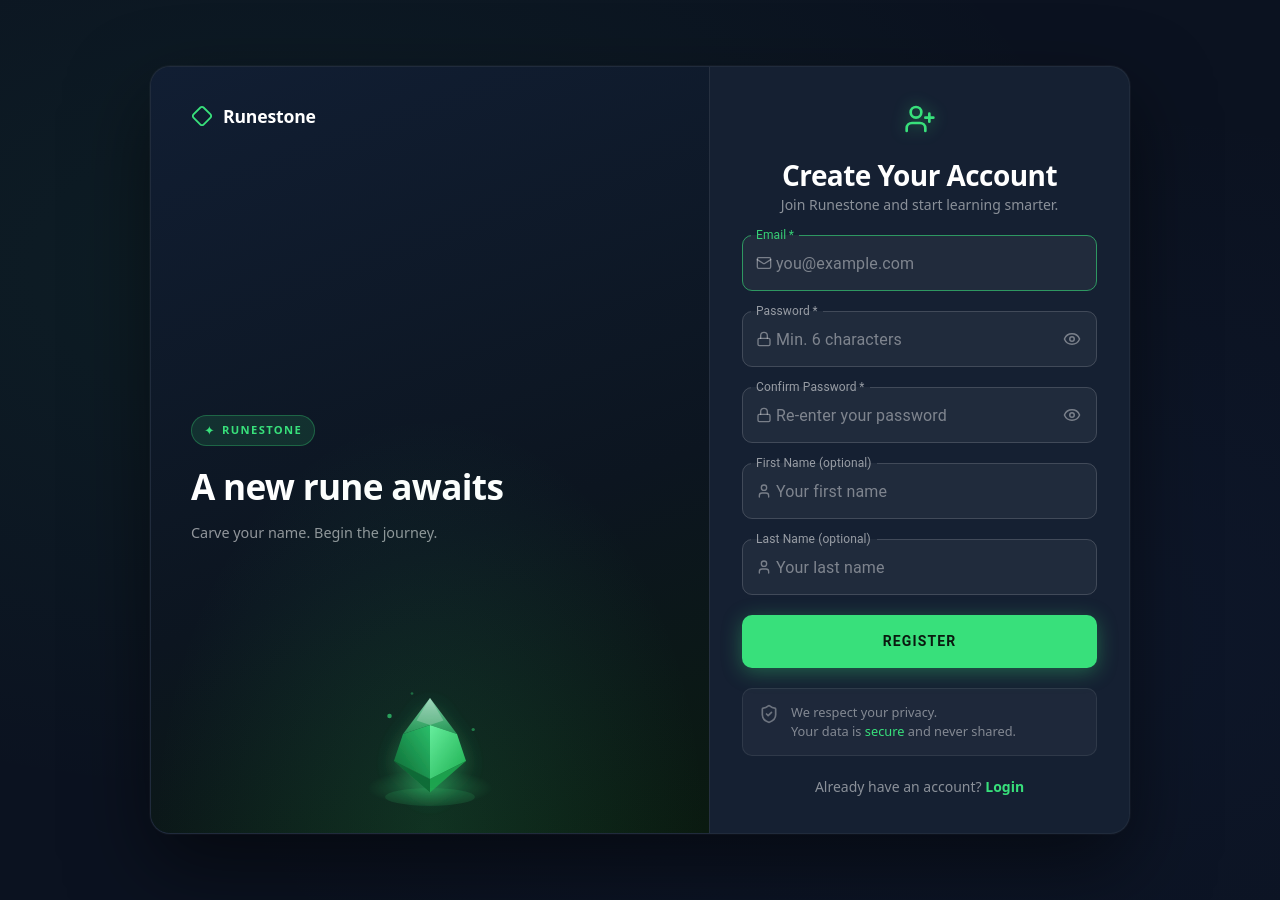
Test: Register Component › Form Validation › should show error when passwords do not match
Type "test@example.com" into the field labelled "Email *" at (936, 263), box [776,235,1097,291]
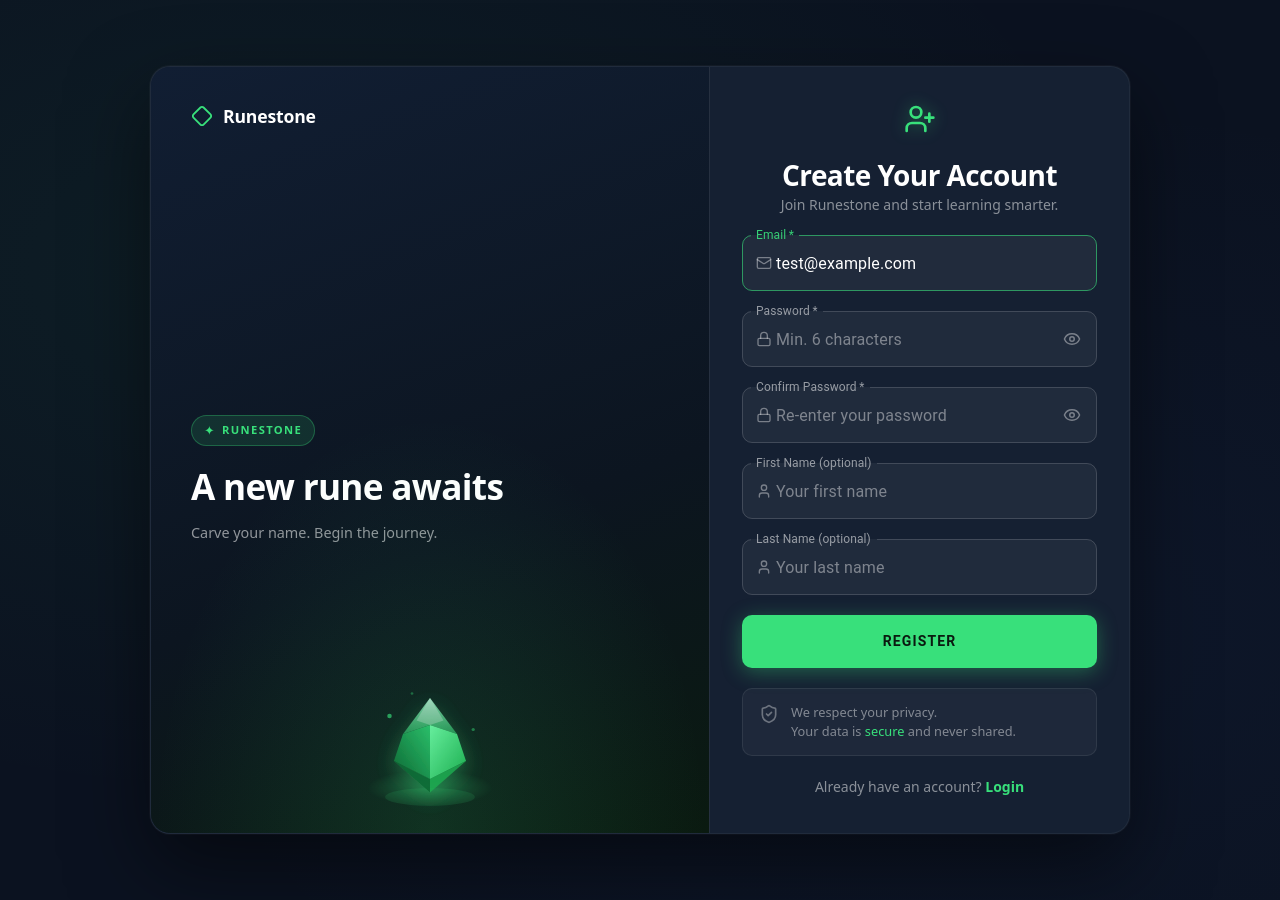
Type "password123" into the password field labelled "Password *" at (913, 339), box [776,311,1050,367]
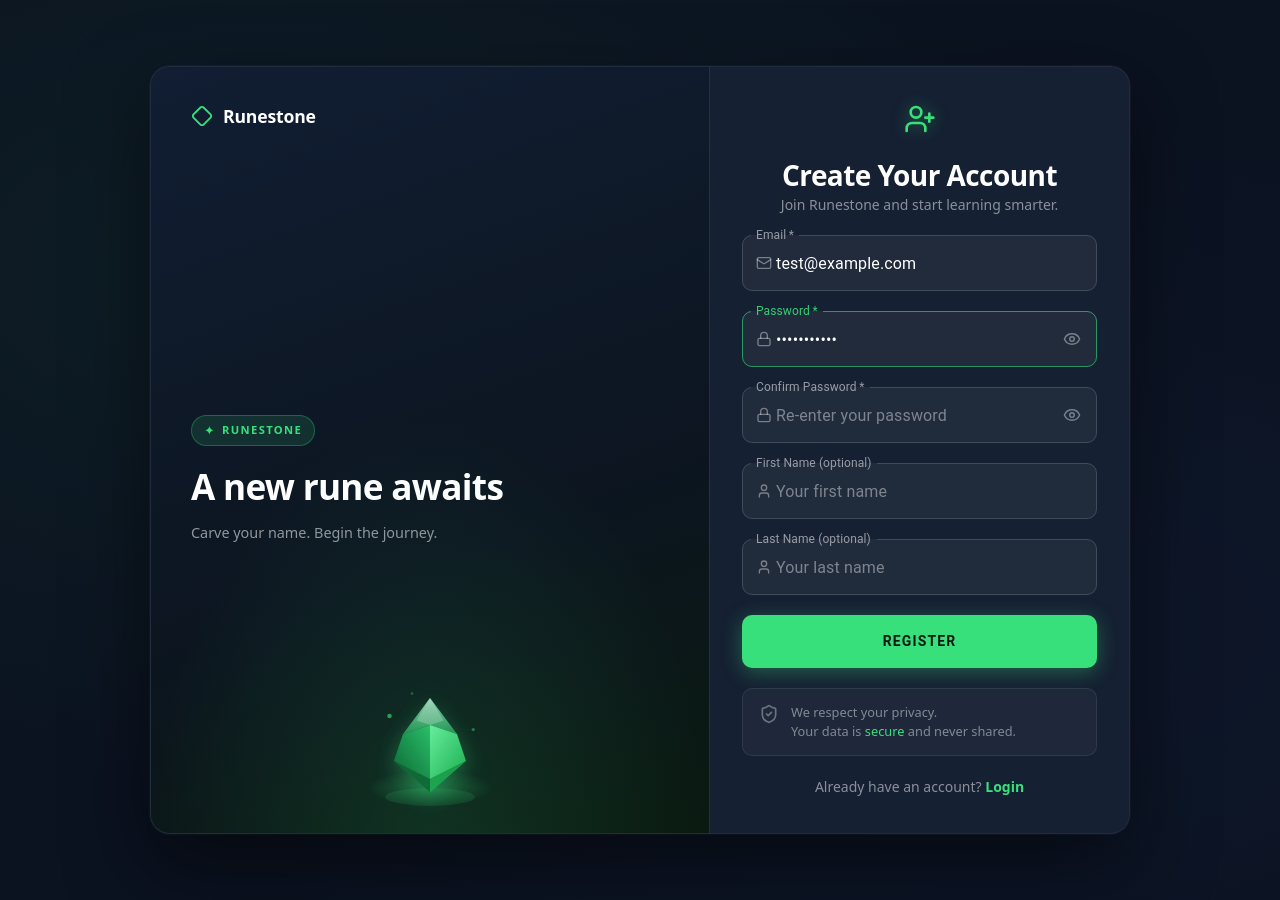
Type "differentpassword" into the password field labelled "Confirm Password *" at (913, 415), box [776,387,1050,443]
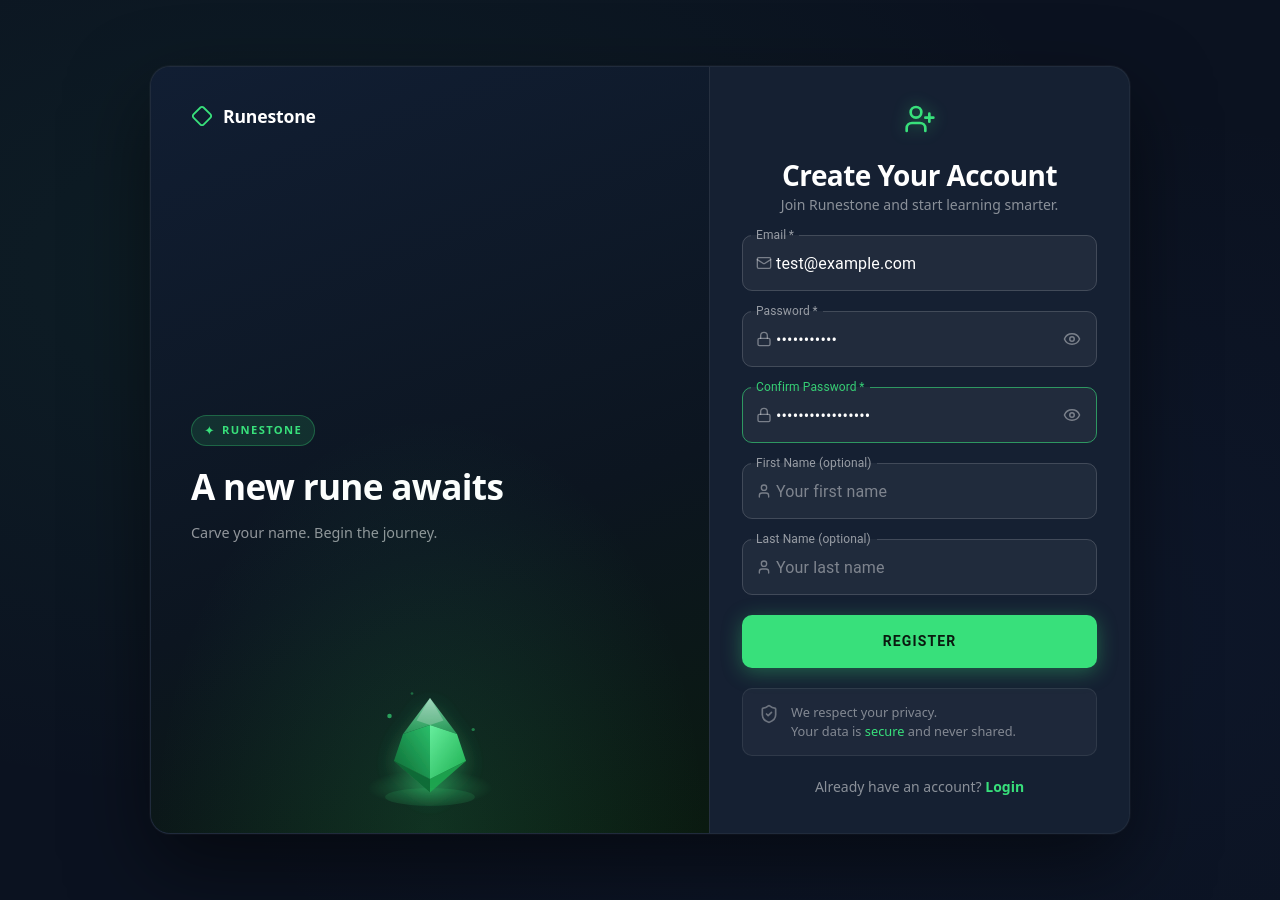
Click the button "Register" at (920, 642), box [742,615,1097,668]
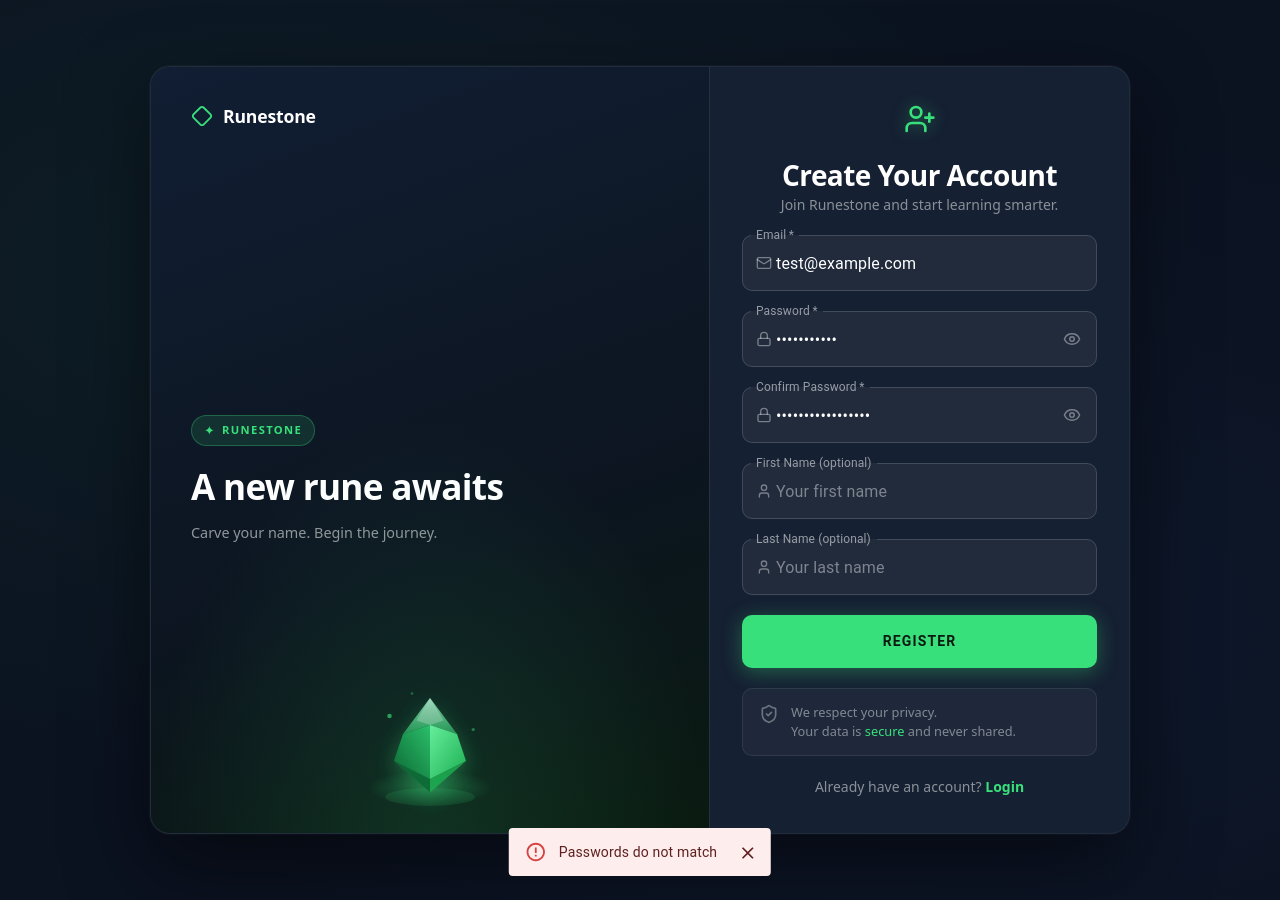
Now the text "Passwords do not match" is shown, box [559,844,717,860]
